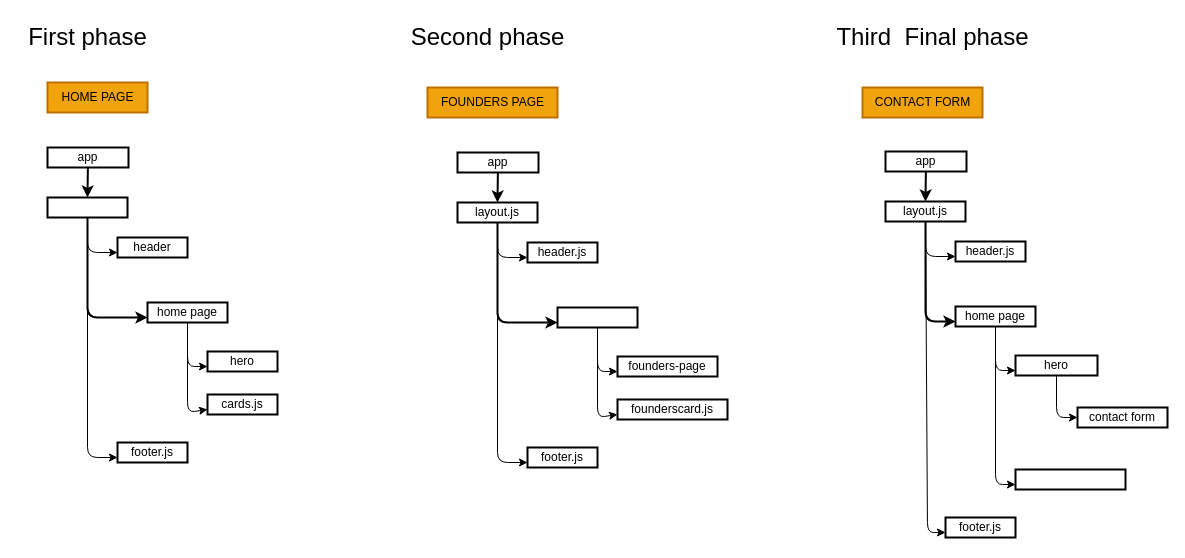
Image size: 1185x558. Some labels were removed from this diagram. The centre of each missing label's shape, as x and y in pixels:
cards,js: [1070,479]
founders: [597,317]
layout: [87,207]
